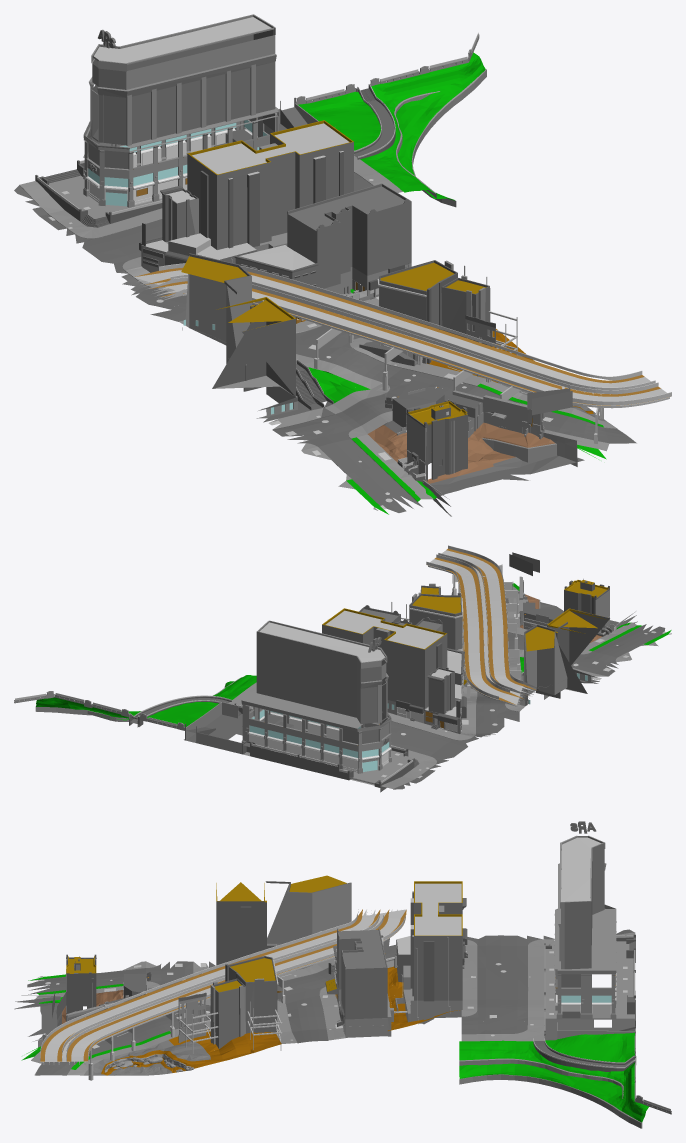
File: bronx_w_6.FBX
The picture shows the model from 3 angles, top to bottom: view 1: azimuth 30°, elevation 25°; view 2: azimuth 150°, elevation 25°; view 3: azimuth 270°, elevation 25°; orthographic projection. The views are drawn at different scales.
Visible parts, largest first — view 1: unnamed, null; view 2: null, unnamed; view 3: unnamed, null.
Part boxes in pixels (x1,y1,x2,y2): unnamed: (134,32,671,516); null: (14,14,354,309); null: (196,608,521,792); unnamed: (14,545,671,742); unnamed: (14,875,671,1128); null: (385,821,635,1030).
Size of the model in its own units: 185 by 79.01 by 250.
